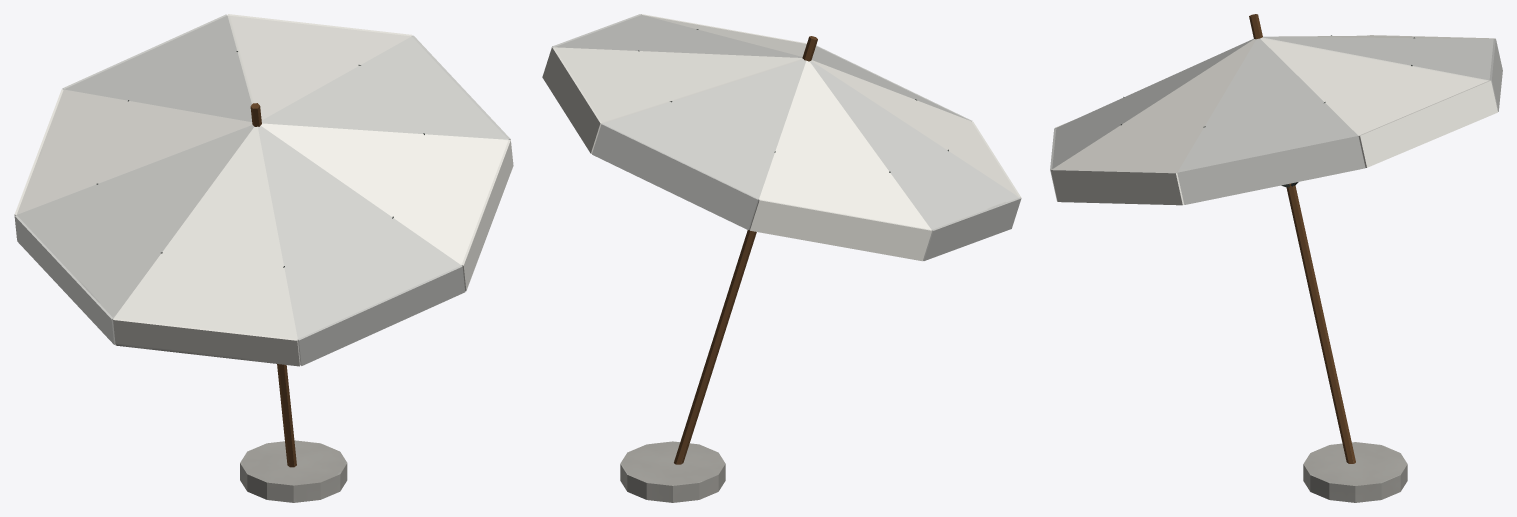
The model's file is slunecnik_d41af04c.glb.
3 renders of one model, left to right at view 1: azimuth 30°, elevation 25°; view 2: azimuth 150°, elevation 25°; view 3: azimuth 270°, elevation 25°, orthographic. The views are drawn at different scales.
Visible parts, largest first — view 1: dum; view 2: dum; view 3: dum.
Part boxes in pixels (left/top/right/bottom): dum: left=14, top=14, right=513, bottom=502; dum: left=542, top=14, right=1021, bottom=502; dum: left=1050, top=14, right=1502, bottom=502.
Size of the model in its own units: 2.43 by 2.51 by 2.43.
1 material, 1 textured.
